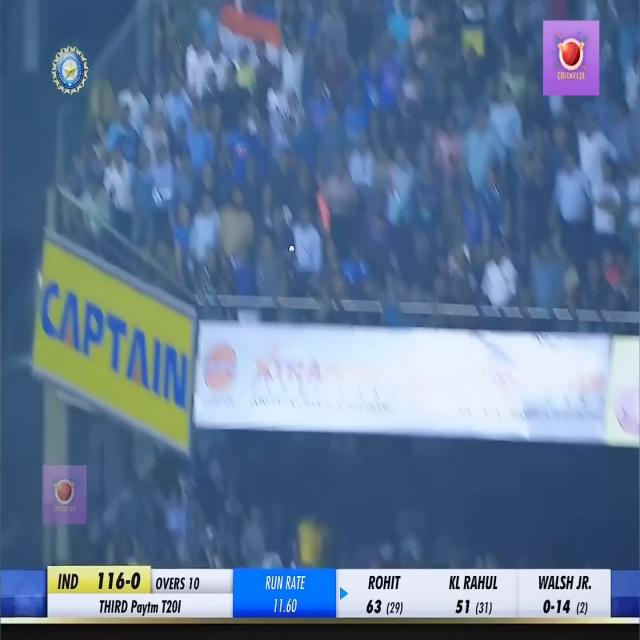fully_visible: (130, 597, 160, 622)
